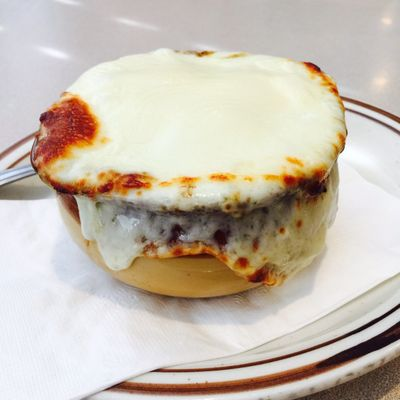soup: (35, 45, 348, 299)
